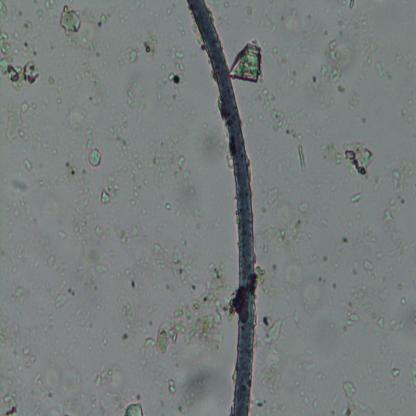Background material: (141, 259, 238, 358), (260, 197, 310, 261), (66, 28, 106, 104), (0, 27, 40, 85), (280, 258, 324, 308), (121, 140, 150, 215), (337, 0, 377, 52), (183, 366, 228, 408), (3, 180, 40, 226), (72, 181, 95, 251), (152, 241, 189, 282), (342, 140, 376, 184), (230, 39, 262, 83), (163, 45, 188, 101), (160, 138, 190, 184), (45, 248, 74, 289), (118, 290, 140, 340), (257, 314, 283, 356), (358, 50, 390, 83), (68, 100, 94, 140), (199, 118, 225, 158), (0, 370, 21, 415), (28, 370, 57, 402), (256, 264, 280, 302), (268, 107, 297, 138), (4, 102, 26, 142), (259, 358, 283, 394), (336, 381, 360, 415), (76, 259, 108, 284), (56, 4, 81, 35), (252, 82, 278, 110), (110, 110, 129, 147), (125, 83, 146, 114), (321, 136, 344, 164), (90, 366, 122, 386), (100, 388, 122, 416), (349, 285, 373, 309), (278, 6, 302, 30), (54, 397, 84, 416), (394, 100, 415, 127), (96, 180, 119, 204), (35, 312, 58, 336), (116, 224, 146, 242), (318, 63, 342, 85), (42, 72, 62, 96), (360, 223, 380, 247), (143, 31, 160, 59), (190, 203, 206, 232), (391, 164, 406, 194), (295, 359, 323, 375), (38, 1, 58, 23), (325, 37, 341, 64), (261, 9, 279, 32), (265, 183, 280, 209), (289, 302, 305, 326), (268, 47, 289, 65), (123, 400, 145, 416), (284, 65, 298, 90), (296, 141, 307, 172), (10, 286, 26, 307), (88, 146, 103, 168), (388, 315, 410, 330), (0, 325, 12, 352), (158, 4, 178, 19), (23, 345, 36, 368), (29, 134, 50, 148), (66, 338, 79, 360), (0, 0, 11, 26), (272, 156, 285, 178), (361, 256, 375, 276), (109, 268, 133, 279), (345, 311, 361, 327), (148, 148, 159, 171), (52, 294, 70, 308), (298, 387, 311, 406), (349, 90, 360, 112), (60, 316, 72, 336), (381, 209, 395, 226), (95, 11, 108, 29), (65, 160, 78, 178), (168, 376, 178, 397), (351, 189, 362, 208), (128, 46, 139, 64), (100, 326, 109, 347), (361, 403, 375, 416), (23, 156, 33, 174), (55, 230, 70, 242), (411, 356, 416, 390), (372, 249, 385, 262), (50, 143, 62, 157), (156, 224, 167, 239), (96, 224, 106, 240), (19, 101, 30, 115), (311, 71, 320, 88), (376, 315, 386, 330), (90, 392, 98, 410), (31, 400, 43, 412), (304, 11, 316, 23), (351, 258, 360, 274), (390, 365, 400, 379), (74, 373, 85, 385), (55, 96, 65, 109), (9, 347, 20, 358), (398, 295, 408, 307), (342, 232, 350, 246), (360, 111, 367, 127), (304, 346, 314, 357), (80, 318, 90, 328), (164, 202, 174, 212), (395, 280, 405, 290), (128, 279, 137, 290), (332, 280, 340, 290), (315, 275, 328, 281), (318, 219, 328, 226), (74, 308, 82, 316), (312, 400, 320, 408), (323, 253, 328, 264), (86, 343, 92, 352), (247, 6, 252, 14), (95, 305, 101, 310)
Microfibre: (186, 1, 258, 415)
